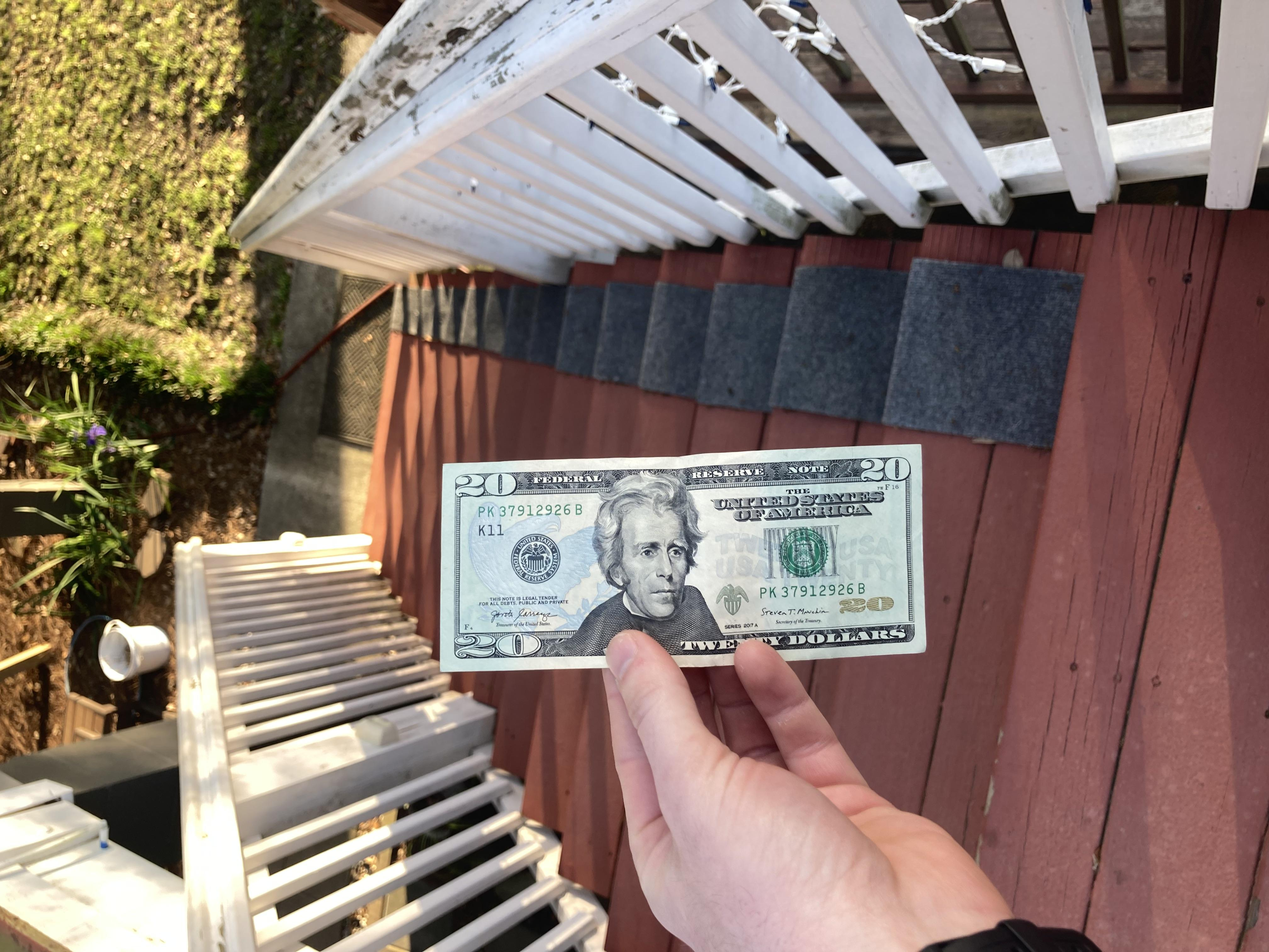twenty-front: (372, 329, 680, 694)
